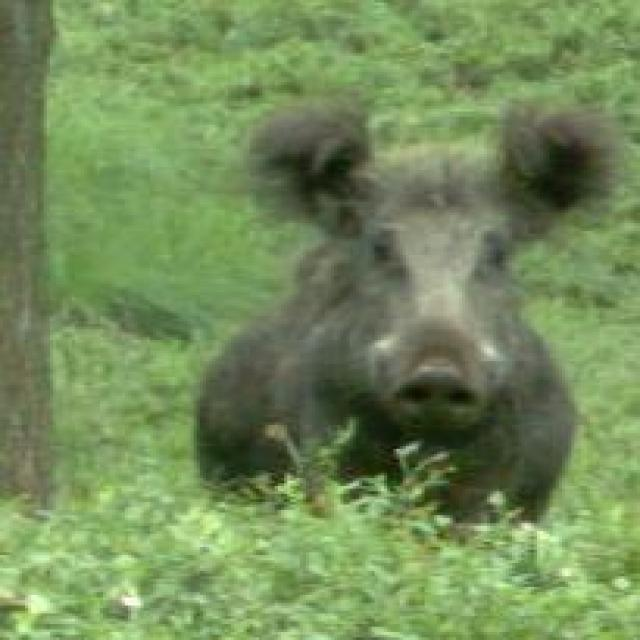pig: (137, 38, 640, 570)
